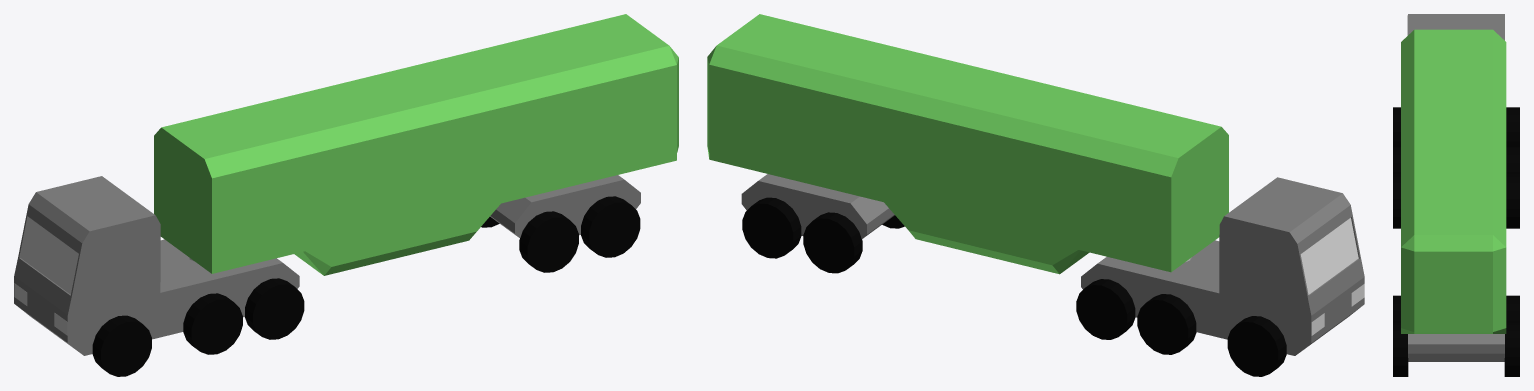
File: Caminhão 2.fbx
3 renders of one model, left to right at view 1: azimuth 30°, elevation 25°; view 2: azimuth 150°, elevation 25°; view 3: azimuth 270°, elevation 25°, orthographic. The views are drawn at different scales.
Parts seen in each view (by area): view 1: Cavalo Mecanico.001; view 2: Cavalo Mecanico.001; view 3: Cavalo Mecanico.001.
Boxes of the visible parts, x1,y1,x2,y2 form: Cavalo Mecanico.001: (14, 14, 678, 376); Cavalo Mecanico.001: (707, 14, 1364, 376); Cavalo Mecanico.001: (1393, 14, 1519, 376).
Size of the model in its own units: 15.87 by 4.61 by 3.13.
